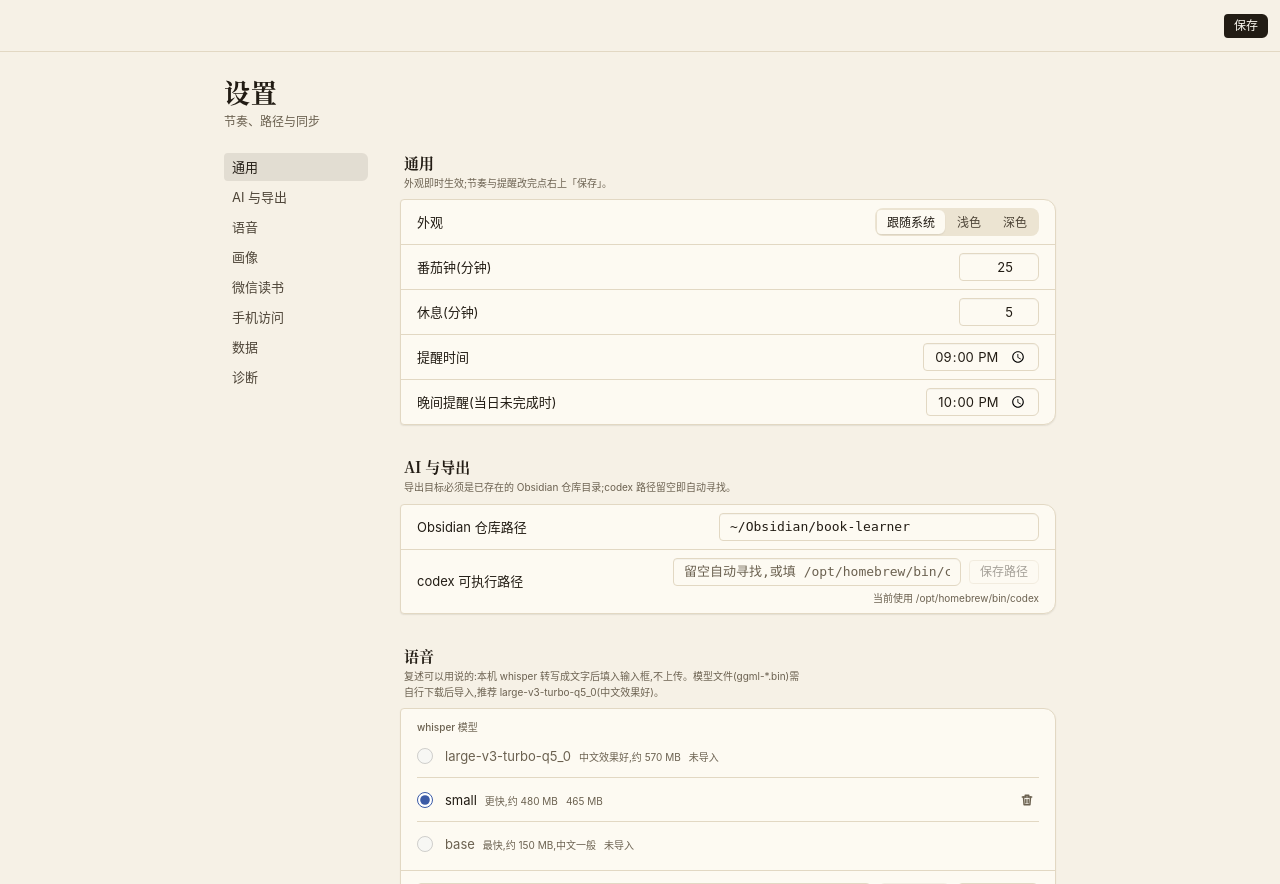
Test: 设置页 · codex 路径(M3 T6) › 显示当前解析到的路径;保存绝对路径后生效,相对路径报错,清空恢复自动寻找
The image size is (1280, 884).
Expected: the button "保存路径" is disabled, top-left (969, 560), bottom-right (1039, 584)
Type "codex" into the field labelled "codex 可执行路径" at [817, 572], box top-left (673, 558), bottom-right (961, 586)
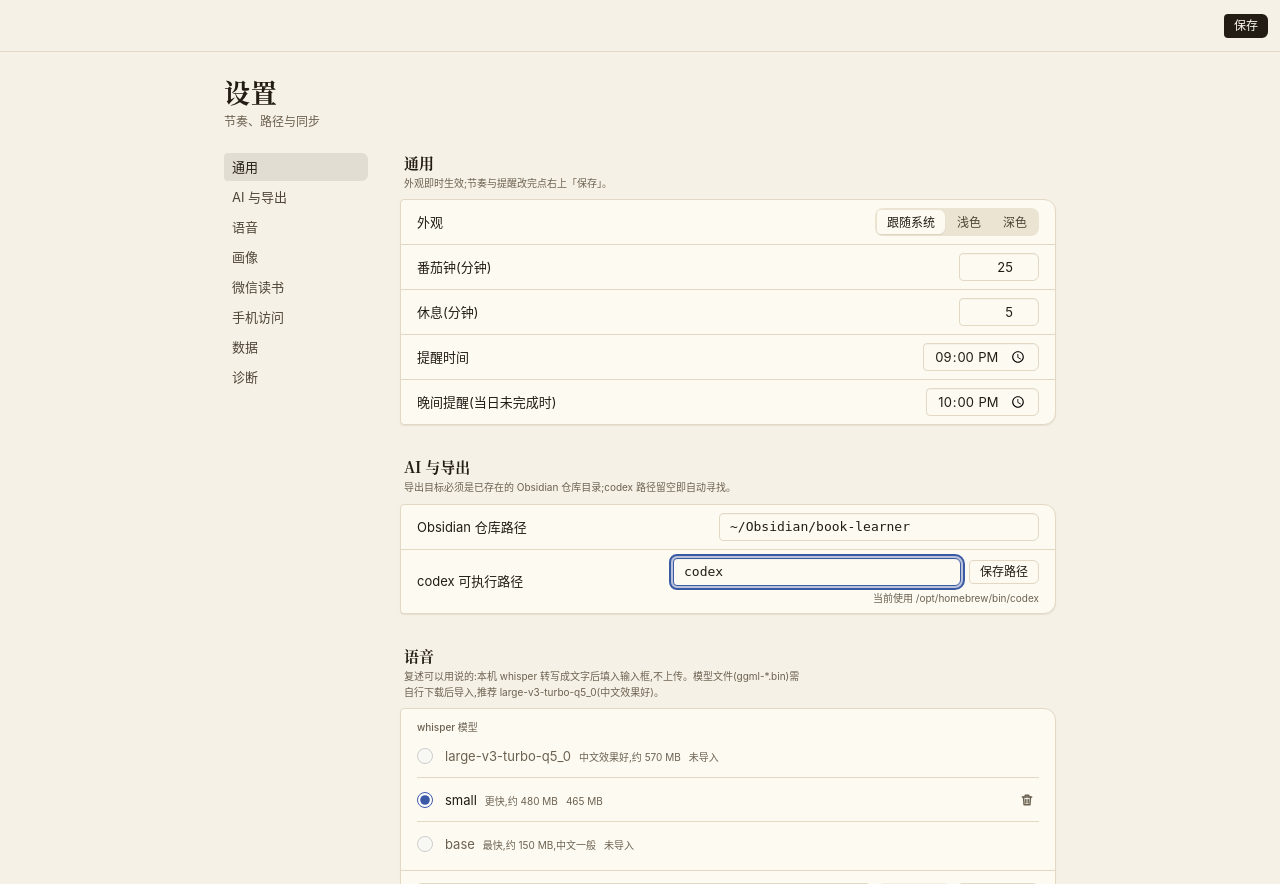
Click the button "保存路径" at [1004, 572], box top-left (969, 560), bottom-right (1039, 584)
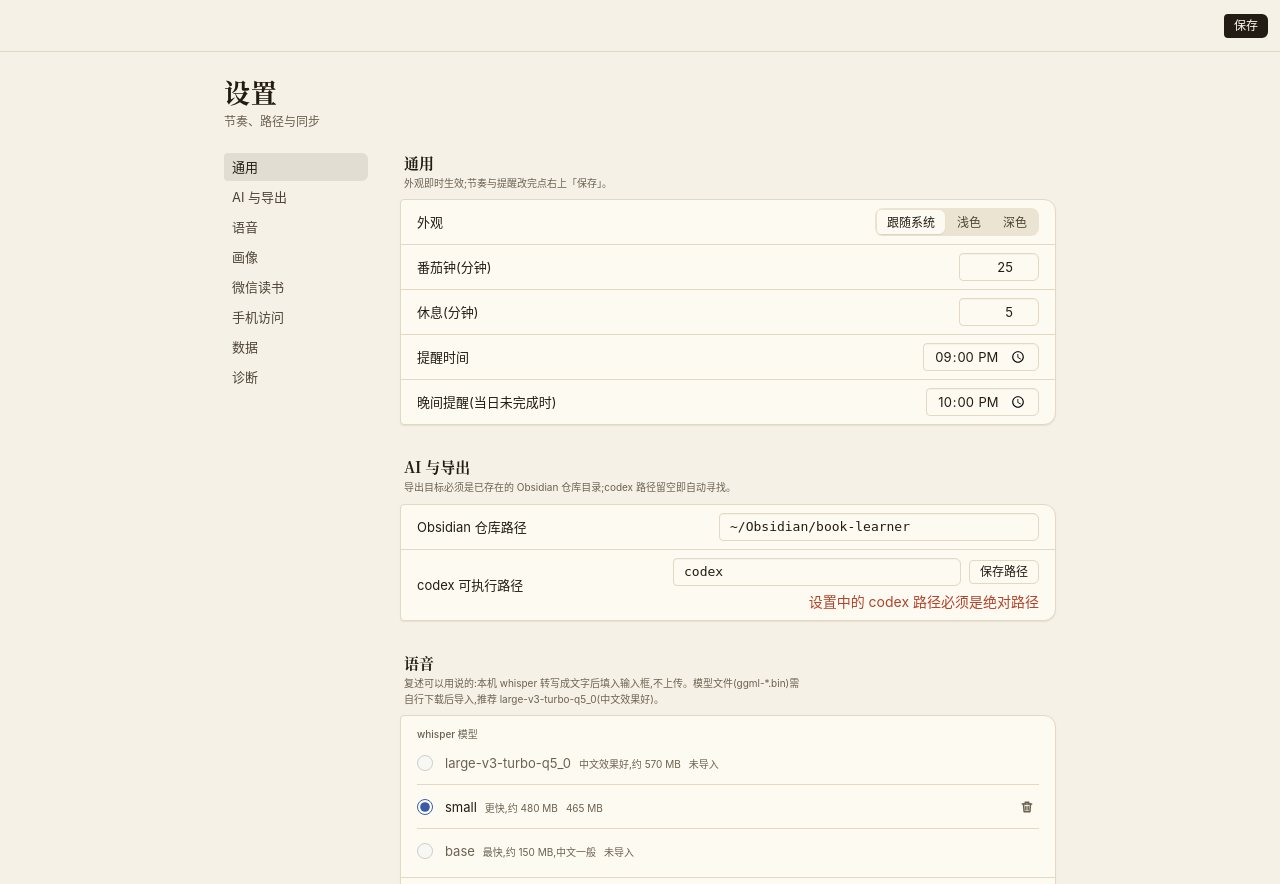
Now the text "设置中的 codex 路径必须是绝对路径" is shown, box top-left (809, 592), bottom-right (1039, 612)
Replace the text in the field labelled "codex 可执行路径" with "/usr/local/bin/codex" at [817, 572], box top-left (673, 558), bottom-right (961, 586)
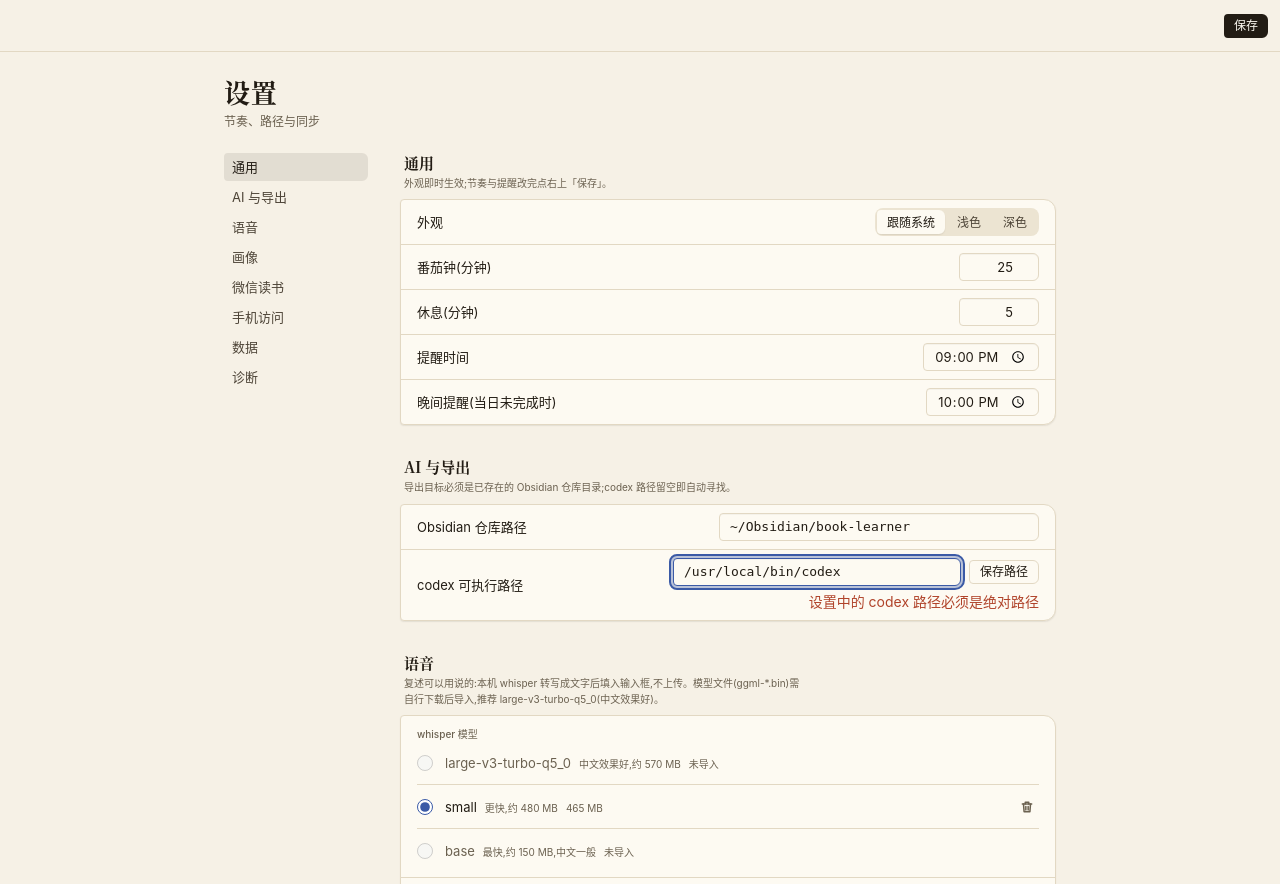
Click the button "保存路径" at [1004, 572], box top-left (969, 560), bottom-right (1039, 584)
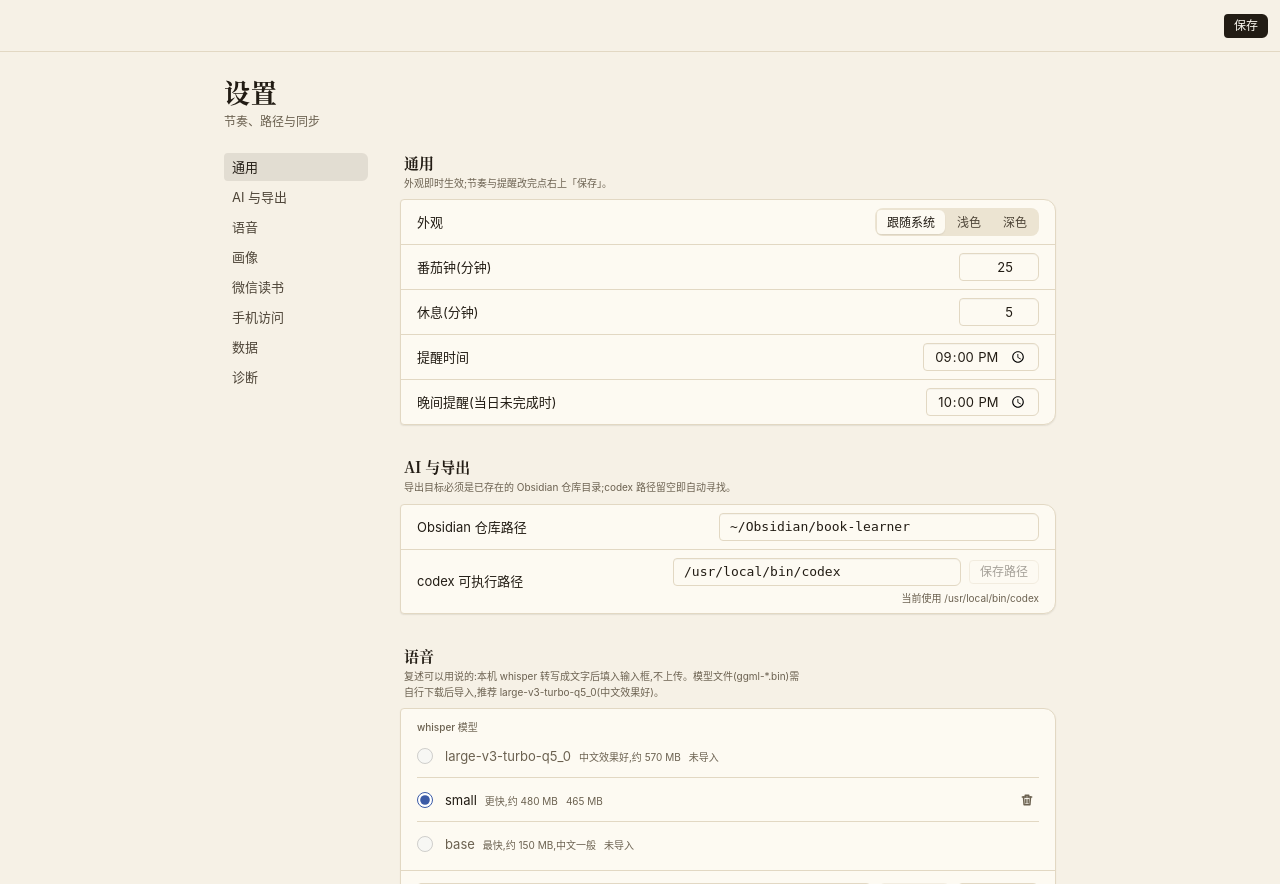
Now the text "当前使用 /usr/local/bin/codex" is shown, box top-left (902, 592), bottom-right (1039, 604)
Clear the field labelled "codex 可执行路径" at [817, 572], box top-left (673, 558), bottom-right (961, 586)
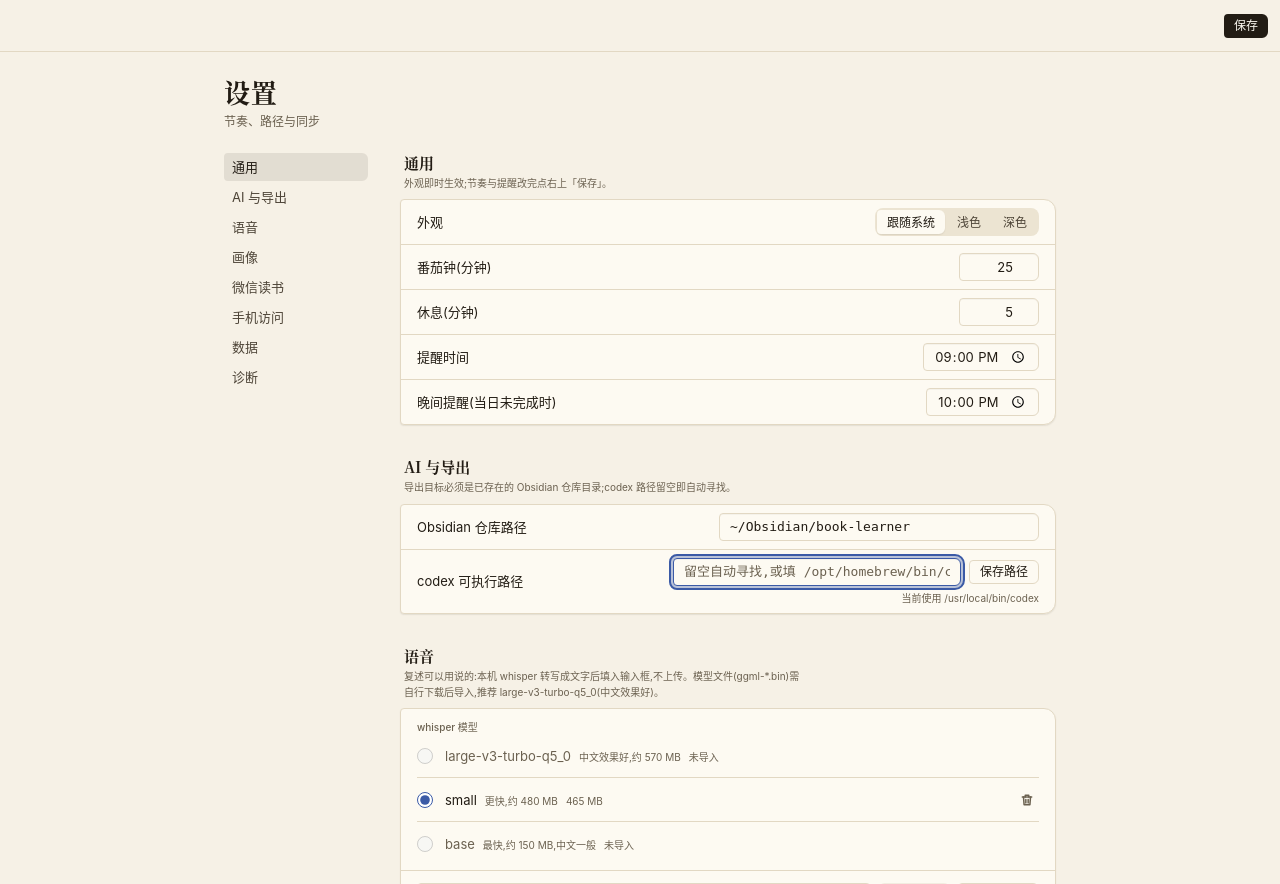
Click the button "保存路径" at [1004, 572], box top-left (969, 560), bottom-right (1039, 584)
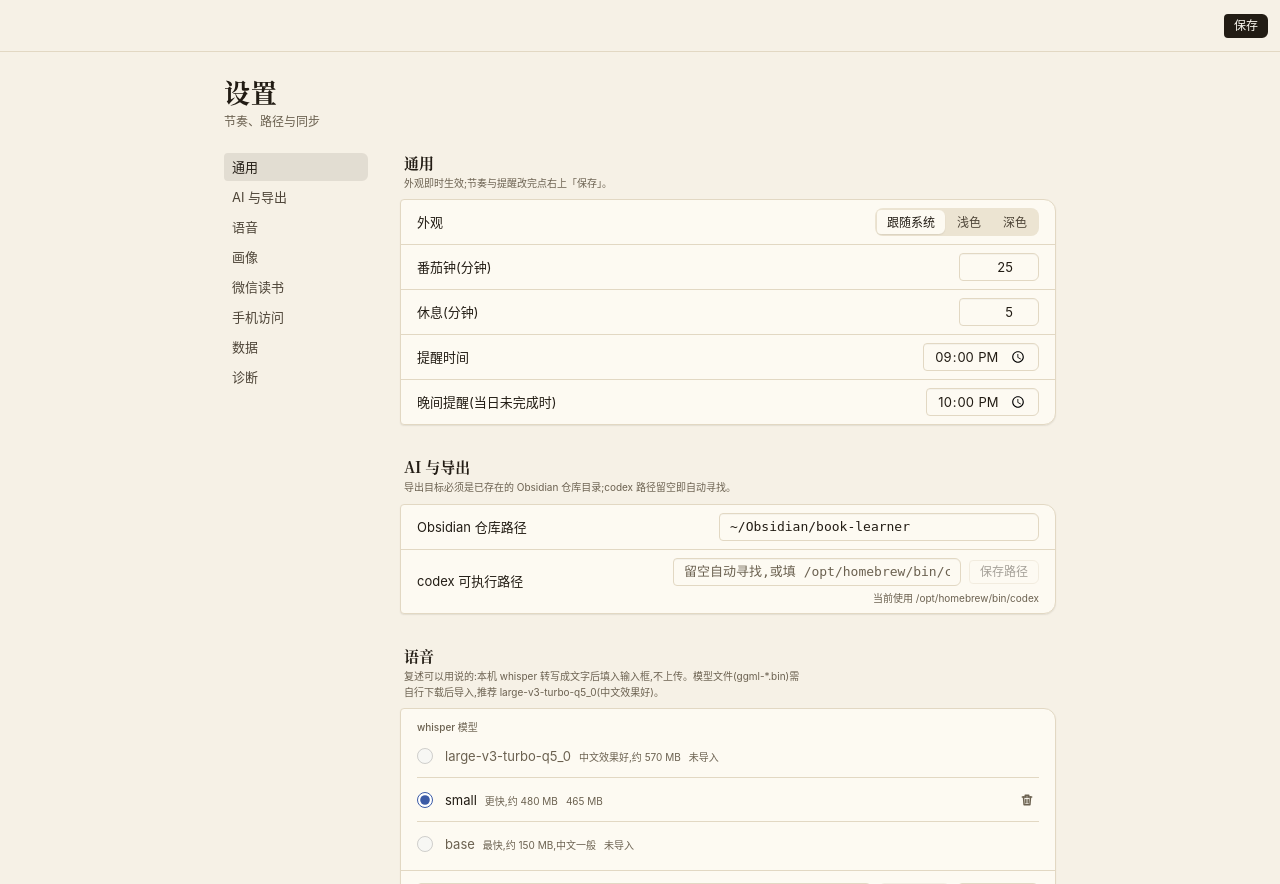
Now the text "当前使用 /opt/homebrew/bin/codex" is shown, box top-left (873, 592), bottom-right (1039, 604)
